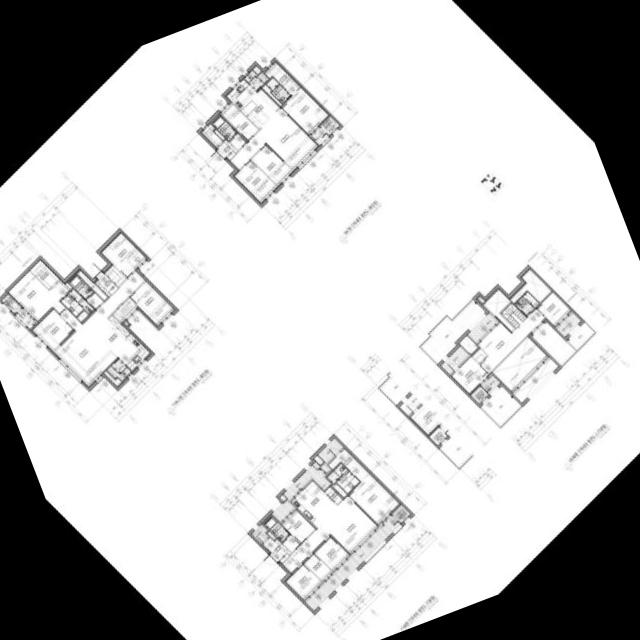background: (0, 0, 640, 640)
space_balconi: (306, 515, 401, 611), (422, 300, 486, 363), (272, 461, 333, 522), (482, 385, 521, 425), (468, 313, 497, 342), (441, 346, 469, 374), (567, 322, 594, 349), (557, 312, 582, 337), (318, 437, 343, 462), (107, 358, 131, 381), (245, 70, 269, 90), (16, 308, 36, 329), (481, 375, 501, 394), (252, 523, 269, 543), (312, 127, 329, 145)
space_bedroom: (9, 271, 70, 321), (349, 473, 400, 524), (282, 87, 329, 134), (101, 232, 147, 277), (130, 280, 175, 325), (235, 160, 277, 202), (33, 309, 74, 350), (252, 144, 293, 185), (452, 356, 489, 393), (286, 564, 322, 600), (315, 537, 350, 571), (537, 292, 571, 326), (282, 510, 315, 543)
space_dressroom: (328, 448, 370, 482), (30, 260, 60, 289), (265, 62, 291, 85)
space_front: (263, 537, 292, 563), (96, 272, 119, 296), (218, 139, 238, 160)
space_kitchen: (95, 315, 150, 370), (227, 79, 280, 129), (292, 480, 339, 527)
space_living_room: (55, 270, 146, 386), (283, 496, 378, 573), (230, 108, 318, 170), (478, 308, 545, 373)
space_other: (492, 336, 548, 392), (514, 358, 559, 403), (532, 321, 576, 365), (221, 102, 259, 140), (511, 269, 552, 303), (484, 289, 515, 331), (78, 270, 108, 300), (305, 553, 333, 581), (501, 302, 527, 328), (113, 298, 138, 323), (202, 124, 223, 147), (105, 264, 126, 286), (263, 84, 282, 106), (459, 335, 478, 354), (325, 487, 343, 504), (283, 535, 300, 552), (87, 292, 104, 309), (283, 78, 300, 95), (230, 134, 247, 150), (104, 371, 122, 386), (473, 348, 488, 363), (332, 483, 347, 497), (215, 129, 225, 140), (314, 455, 324, 465), (268, 531, 276, 540), (253, 66, 261, 74), (478, 296, 485, 303), (280, 494, 287, 501), (66, 282, 72, 289), (125, 321, 129, 325)
space_outdoor_room: (392, 504, 411, 523), (2, 294, 21, 313), (321, 116, 340, 135), (471, 386, 489, 404)
space_toilet: (61, 289, 94, 322), (328, 463, 360, 493), (265, 516, 290, 542), (69, 274, 94, 300), (267, 77, 291, 103), (213, 116, 237, 140), (516, 292, 539, 315)
